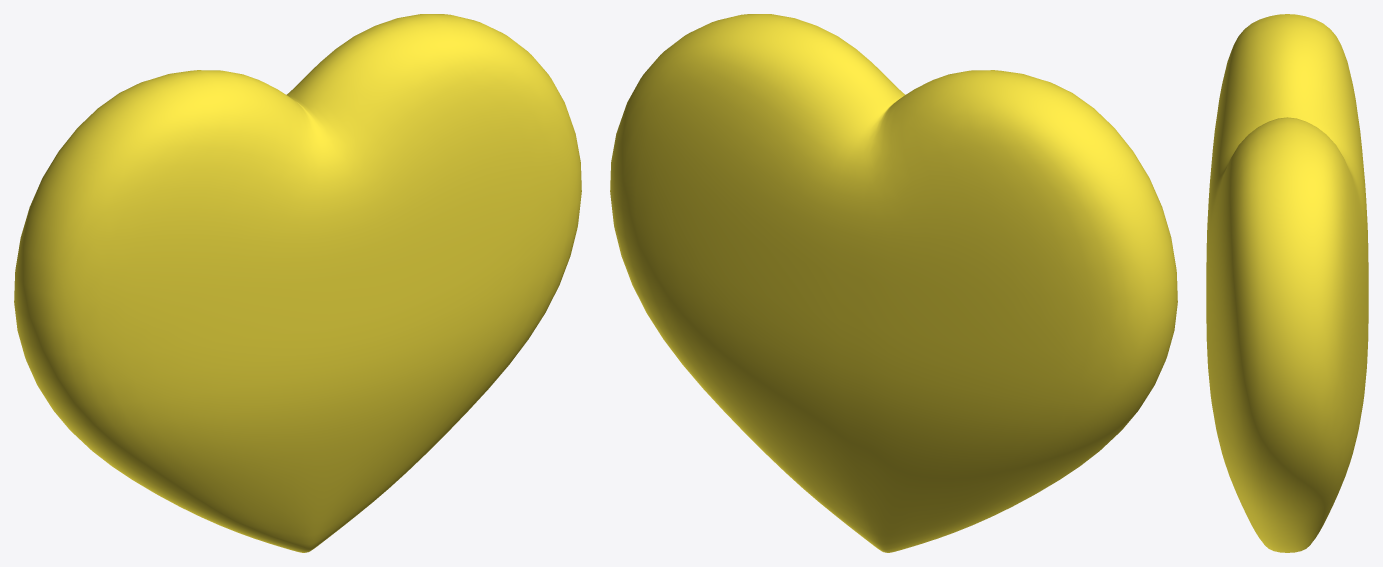
Rendered from extraHeart.fbx.
The picture shows the model from 3 angles, left to right: view 1: azimuth 30°, elevation 25°; view 2: azimuth 150°, elevation 25°; view 3: azimuth 270°, elevation 25°; orthographic projection. The views are drawn at different scales.
Visible parts, largest first — view 1: heart; view 2: heart; view 3: heart.
Boxes of the visible parts, <box> form: heart: <box>14,14,581,552</box>; heart: <box>610,14,1177,552</box>; heart: <box>1206,14,1368,552</box>.
Size of the model in its own units: 130 by 113 by 35.24.
